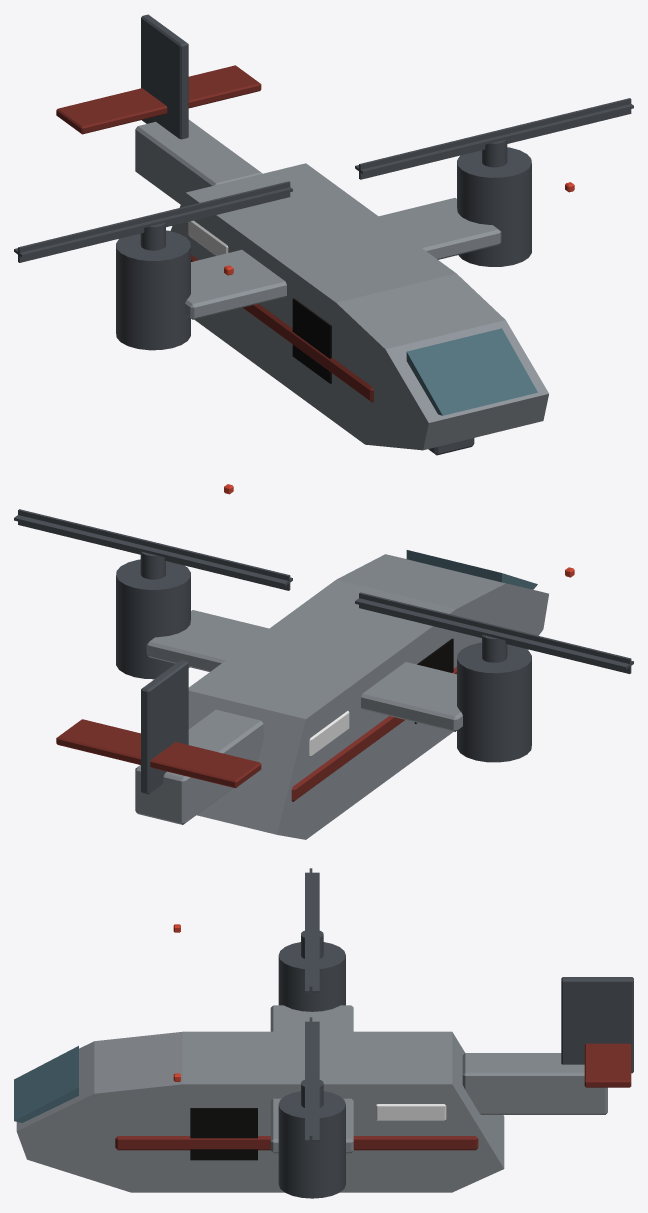
3 renders of one model, top to bottom at view 1: azimuth 30°, elevation 25°; view 2: azimuth 150°, elevation 25°; view 3: azimuth 270°, elevation 25°, orthographic. The views are drawn at different scales.
Visible parts, largest first — view 1: garde_body_vertibird; view 2: garde_body_vertibird; view 3: garde_body_vertibird.
Boxes of the visible parts, x1,y1,x2,y2 form: garde_body_vertibird: (14, 14, 633, 455); garde_body_vertibird: (14, 484, 633, 839); garde_body_vertibird: (14, 868, 633, 1198).
Size of the model in its own units: 12.2 by 4 by 11.95.
